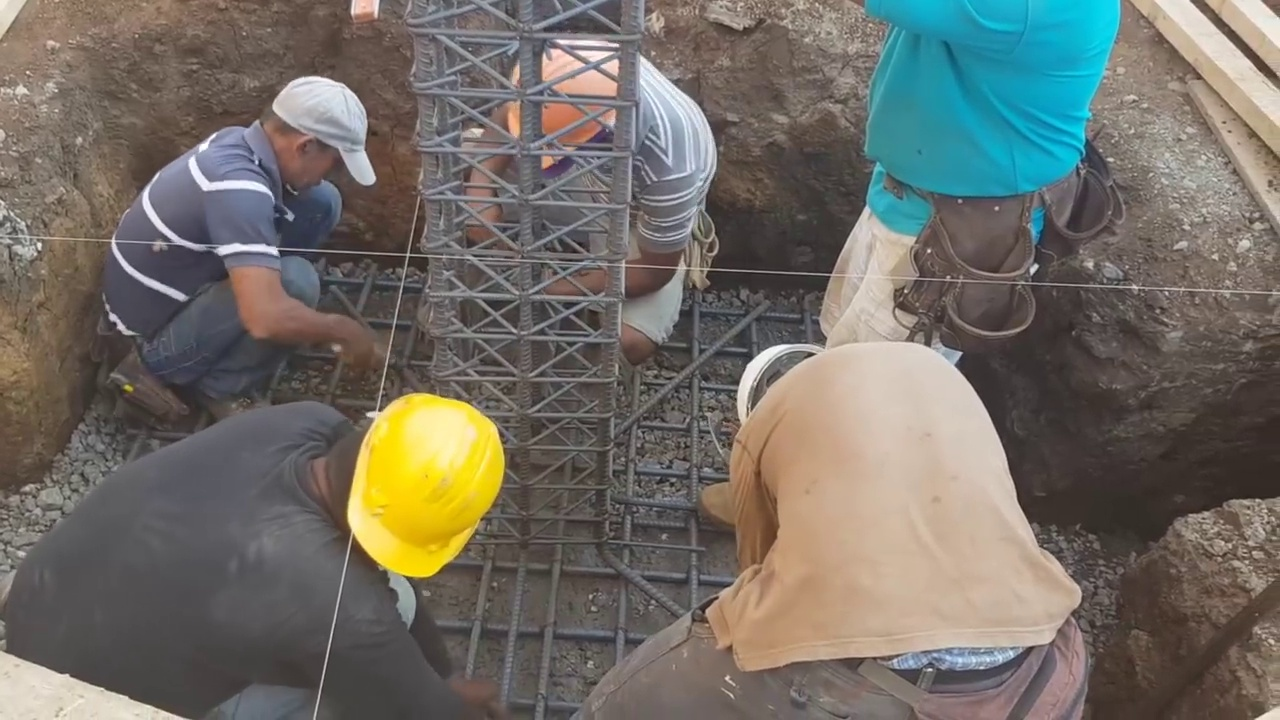helmet: (344, 388, 500, 587), (504, 51, 619, 173), (742, 349, 822, 417)
helmet-off: (266, 70, 378, 191)
helmet-on: (307, 389, 501, 592), (501, 45, 636, 180), (736, 340, 837, 442)
person: (599, 326, 1117, 720), (0, 392, 512, 720), (805, 0, 1122, 366), (98, 68, 386, 411), (466, 26, 721, 376)
